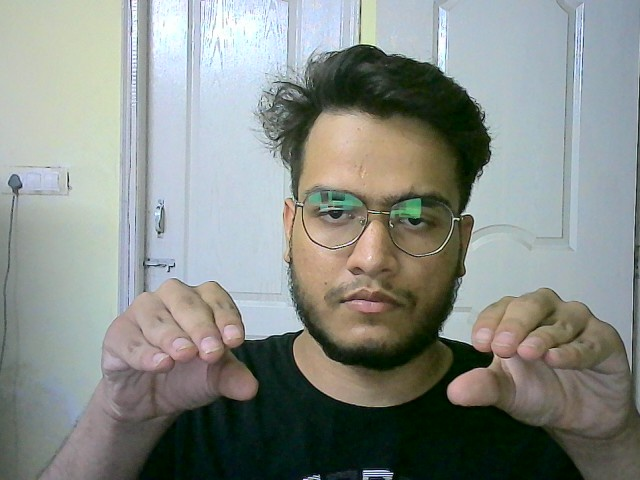No: (445, 278, 640, 444), (97, 268, 269, 435)
